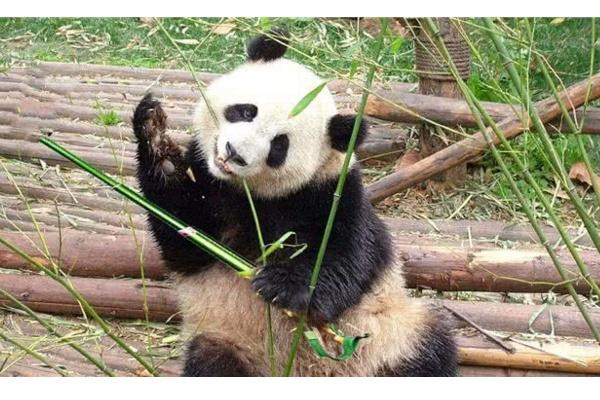panda: (115, 33, 471, 373)
